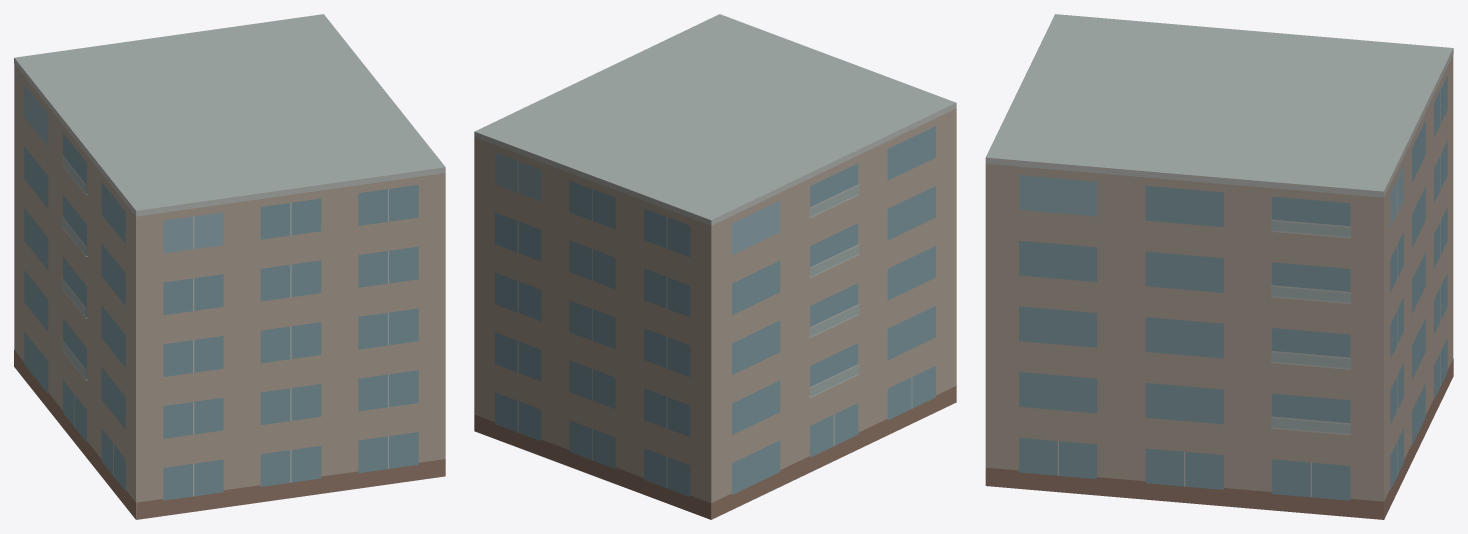
File: survey-upis-32962564.glb
The picture shows the model from 3 angles, left to right: view 1: azimuth 30°, elevation 25°; view 2: azimuth 150°, elevation 25°; view 3: azimuth 270°, elevation 25°; orthographic projection. The views are drawn at different scales.
Parts seen in each view (by area): view 1: survey-upis-32962564.tmp; view 2: survey-upis-32962564.tmp; view 3: survey-upis-32962564.tmp.
Part boxes in pixels (left/top/right/bottom): survey-upis-32962564.tmp: left=14, top=14, right=445, bottom=519; survey-upis-32962564.tmp: left=474, top=14, right=956, bottom=519; survey-upis-32962564.tmp: left=985, top=14, right=1453, bottom=519.
Size of the model in its own units: 15.2 by 13.1 by 16.93.
